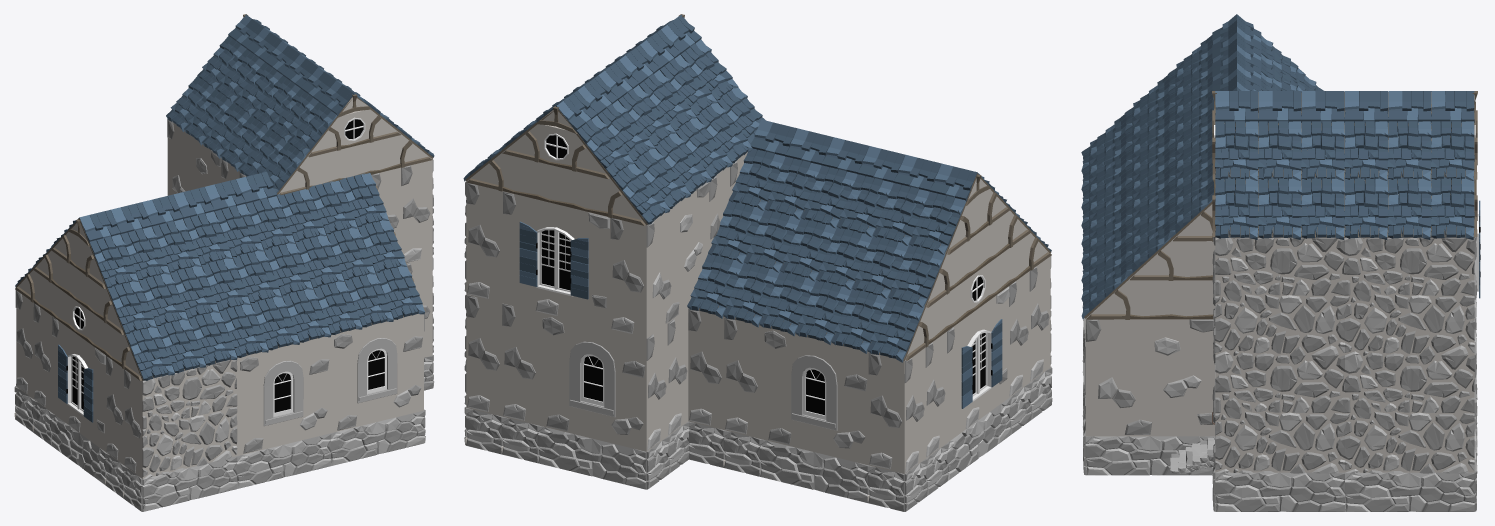
Rendered from House_1.fbx.
3 views of the same model, side by side, from view 1: azimuth 30°, elevation 25°; view 2: azimuth 150°, elevation 25°; view 3: azimuth 270°, elevation 25° (orthographic). The views are drawn at different scales.
Visible parts, largest first — view 1: WALL_02_7, WINDOW_07_7, WINDOW_07_6, WINDOW_04_4, FOUNDATION_01_4, FOUNDATION_01_3, FOUNDATION_01_2, WALL_03_17, WALL_05_3, WALL_03_4, FOUNDATION_01_5, WALL_03_2 (+76 smaller); view 2: WINDOW_07_9, WINDOW_07_8, WINDOW_04_5, WINDOW_04_4, WALL_05_3, FOUNDATION_01_7, WALL_03_16, WALL_03_15, FOUNDATION_01_6, WALL_03_7, WALL_03_8, WALL_03_14 (+80 smaller); view 3: WALL_02_8, WALL_02_9, WALL_02_11, WALL_02_10, WALL_05_2, FOUNDATION_01_9, FOUNDATION_01_8, FOUNDATION_01_10, ROOF_base_68, ROOF_base_66, ROOF_base_69, ROOF_base_67 (+57 smaller).
Part boxes in pixels (x1,y1,x2,y2): WALL_02_7: [142, 359, 237, 479]; WINDOW_07_7: [236, 336, 330, 456]; WINDOW_07_6: [330, 314, 423, 433]; WINDOW_04_4: [52, 316, 106, 452]; FOUNDATION_01_4: [142, 456, 237, 511]; FOUNDATION_01_3: [236, 433, 331, 488]; FOUNDATION_01_2: [330, 410, 424, 465]; WALL_03_17: [401, 160, 432, 263]; WALL_05_3: [167, 119, 221, 195]; WALL_03_4: [33, 303, 52, 412]; FOUNDATION_01_5: [50, 413, 106, 484]; WALL_03_2: [124, 369, 144, 478]; WINDOW_07_9: [538, 312, 646, 451]; WINDOW_07_8: [760, 326, 868, 465]; WINDOW_04_5: [502, 191, 610, 329]; WINDOW_04_4: [946, 286, 1009, 443]; WALL_05_3: [644, 182, 709, 338]; FOUNDATION_01_7: [537, 425, 647, 489]; WALL_03_16: [502, 303, 538, 425]; WALL_03_15: [466, 294, 502, 416]; FOUNDATION_01_6: [759, 439, 868, 502]; WALL_03_7: [724, 317, 760, 438]; WALL_03_8: [688, 308, 724, 429]; WALL_03_14: [466, 181, 502, 303]; WALL_02_8: [1215, 237, 1344, 355]; WALL_02_9: [1345, 237, 1474, 355]; WALL_02_11: [1215, 355, 1344, 473]; WALL_02_10: [1345, 355, 1474, 473]; WALL_05_2: [1085, 318, 1214, 436]; FOUNDATION_01_9: [1215, 472, 1344, 511]; FOUNDATION_01_8: [1345, 472, 1474, 511]; FOUNDATION_01_10: [1085, 436, 1214, 475]; ROOF_base_68: [1387, 177, 1431, 239]; ROOF_base_66: [1258, 177, 1301, 239]; ROOF_base_69: [1431, 177, 1474, 239]; ROOF_base_67: [1301, 177, 1344, 239].
Bounding box in the file's own units: 1124 × 959 × 924.
